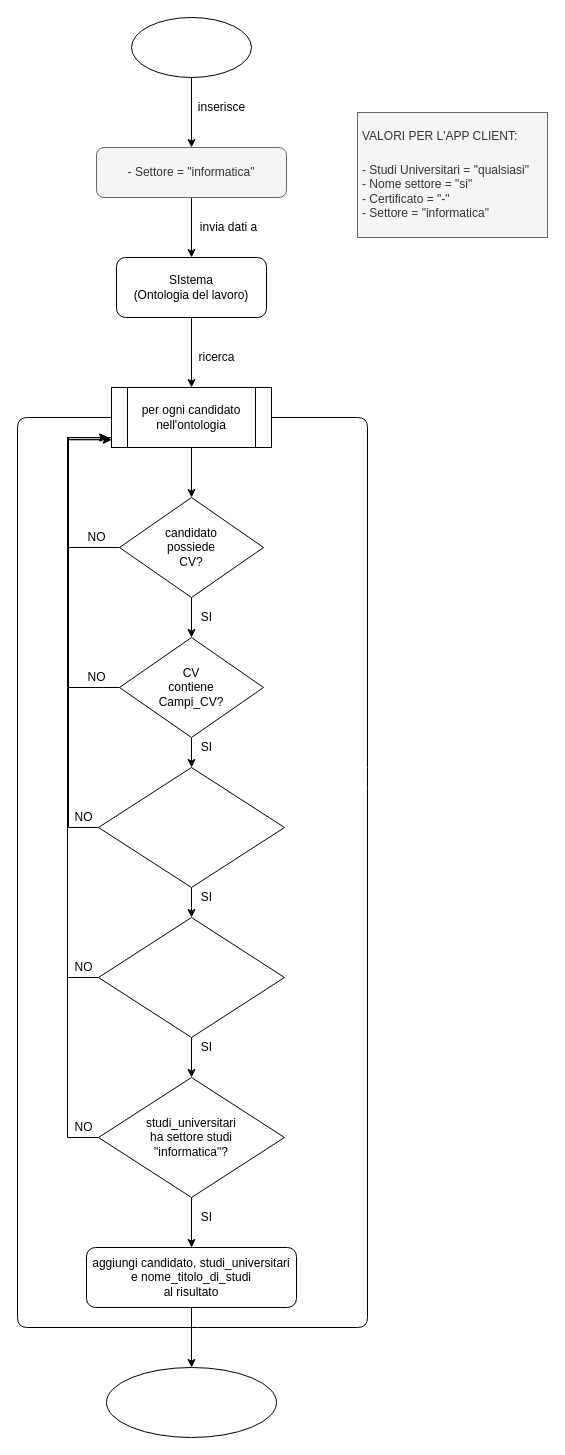
Image size: 565x1455. Some labels were removed from this diagram. Each missing label, with the centre of its shape:
Azienda: [191,47]
Campi_CV ha campo studi_universitari?: [191,827]
mostra il risultato all'utente: [191,1402]
studi_universitari ha nome nome_titolo_di_studi?: [191,977]
